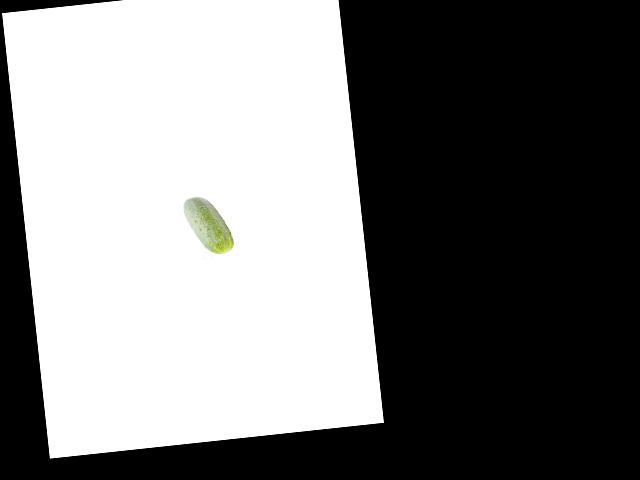cucumber: (182, 193, 234, 257)
